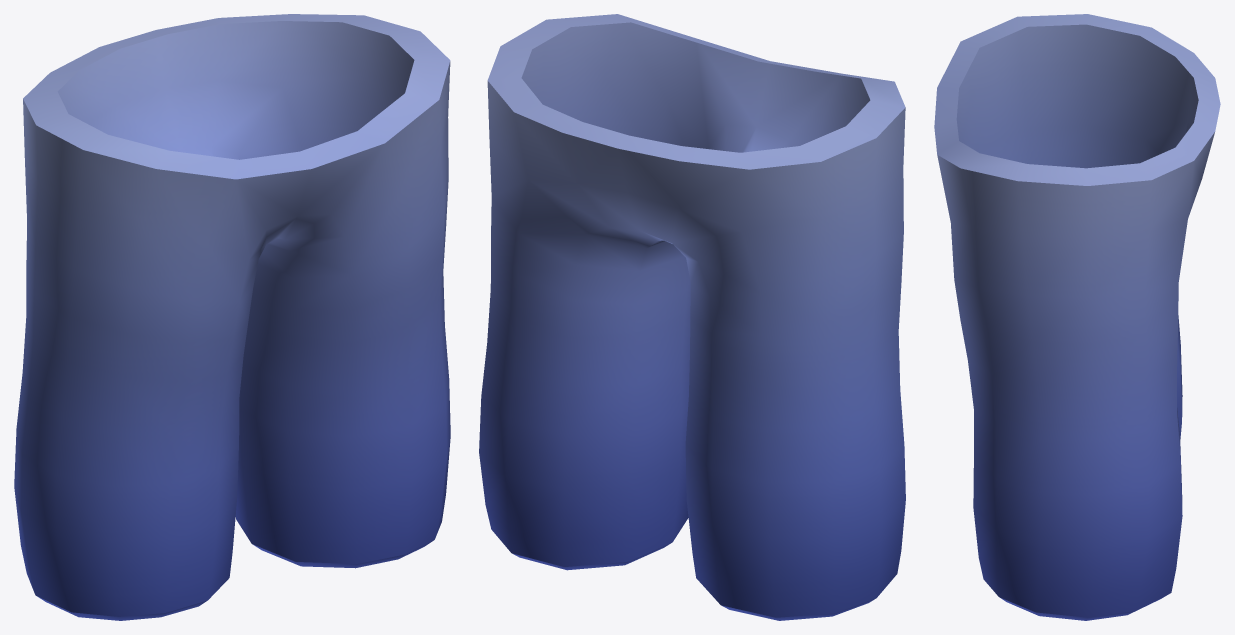
The model's file is Pants_05.glb.
3 views of the same model, side by side, from view 1: azimuth 30°, elevation 25°; view 2: azimuth 150°, elevation 25°; view 3: azimuth 270°, elevation 25° (orthographic). The views are drawn at different scales.
Parts seen in each view (by area): view 1: Pants_05; view 2: Pants_05; view 3: Pants_05.
Boxes of the visible parts, x1=… form: Pants_05: x1=14, y1=14, x2=450, y2=620; Pants_05: x1=479, y1=14, x2=905, y2=620; Pants_05: x1=934, y1=14, x2=1220, y2=620.
Bounding box in the file's own units: 0.2568 × 0.2937 × 0.1716.
1 material, 1 textured.
